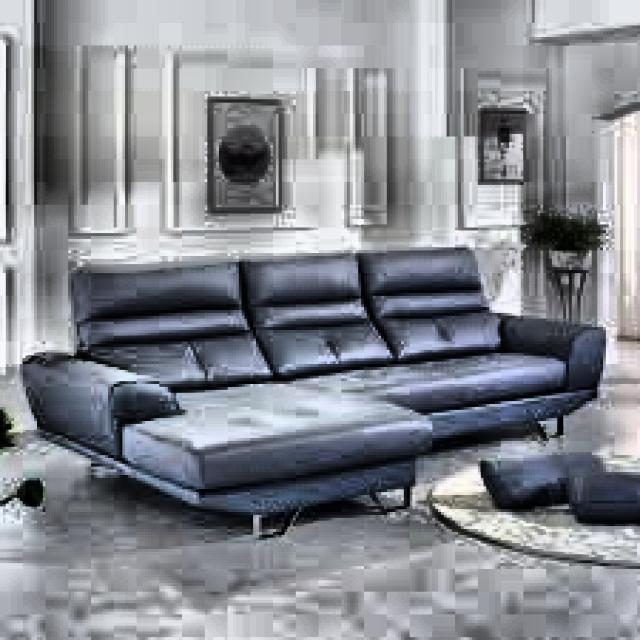sofa: (34, 254, 609, 524)
